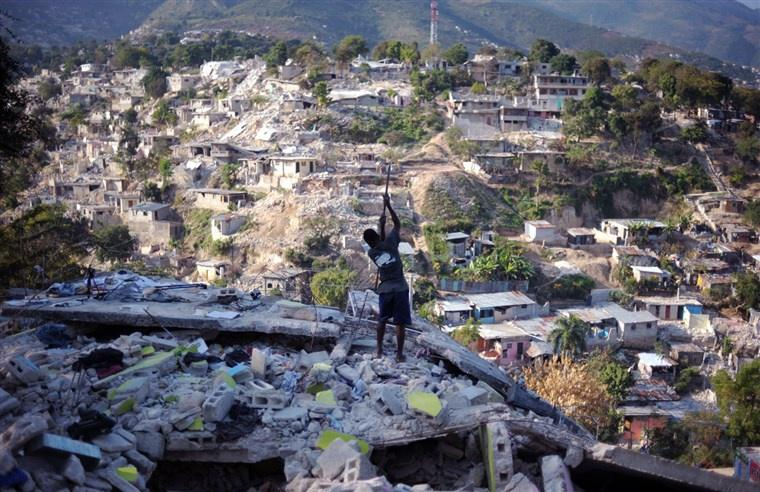victim: (357, 191, 420, 367)
